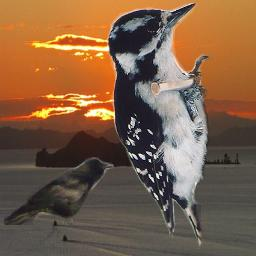Crow: (4, 157, 114, 225)
Woodpecker: (107, 3, 215, 249)
